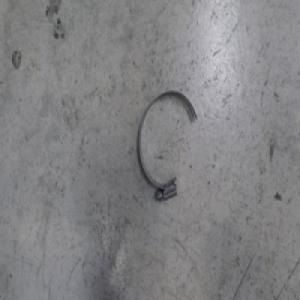AdjustableClamp: (138, 88, 199, 202)
